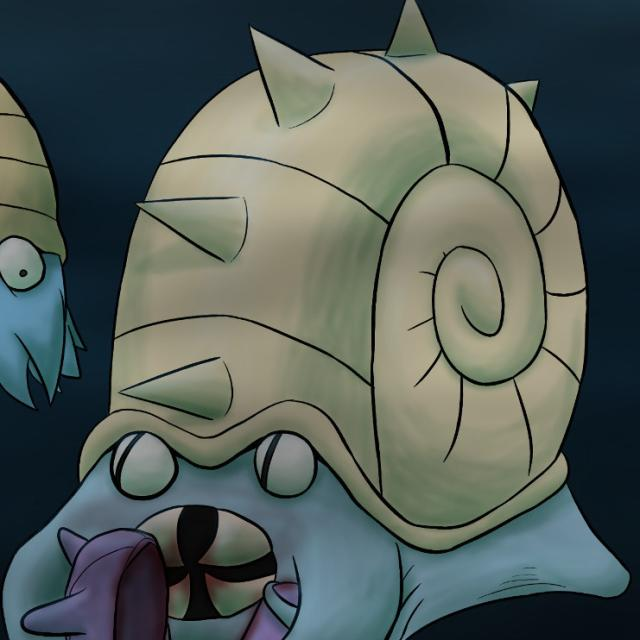Omastar: (84, 58, 612, 640)
